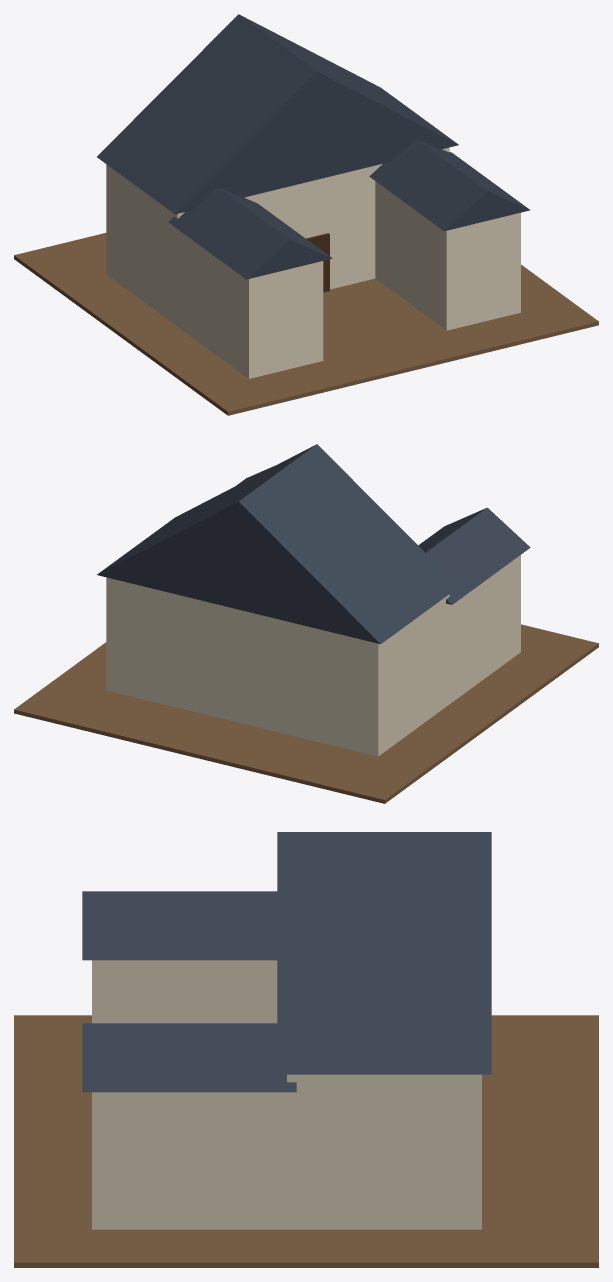
Rendered from bld_special_hospital_a03_lod2.glb.
The picture shows the model from 3 angles, top to bottom: view 1: azimuth 30°, elevation 25°; view 2: azimuth 150°, elevation 25°; view 3: azimuth 270°, elevation 25°; orthographic projection. The views are drawn at different scales.
Visible parts, largest first — view 1: body; view 2: body; view 3: body.
Boxes of the visible parts, box(x1,y1,x2,y2) form: body: box(14, 14, 598, 415); body: box(14, 444, 598, 803); body: box(14, 832, 598, 1267).
Size of the model in its own units: 15 by 8.83 by 15.
